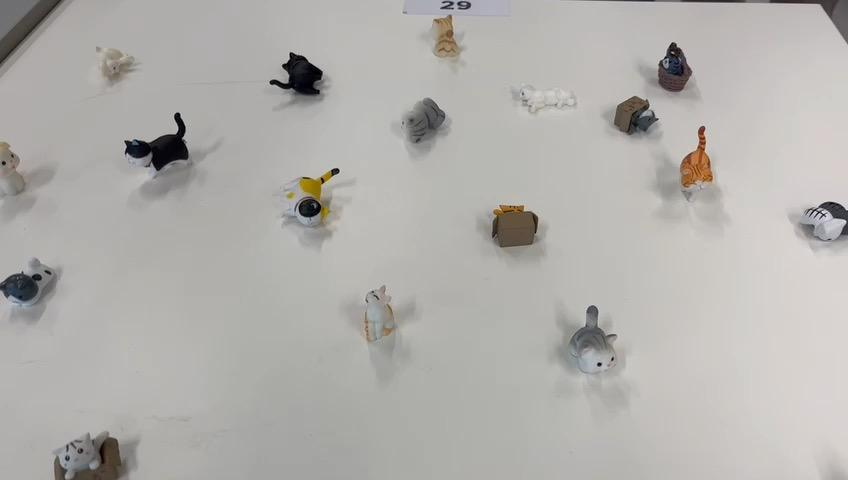pet: (120, 106, 195, 185), (46, 425, 129, 480), (278, 166, 344, 230), (567, 302, 624, 376), (0, 251, 62, 313), (676, 121, 718, 205), (266, 49, 329, 99), (488, 199, 545, 254), (398, 93, 450, 145), (362, 282, 401, 342), (656, 38, 695, 96), (799, 198, 848, 244), (87, 41, 137, 85), (514, 81, 582, 113), (612, 91, 659, 136), (426, 11, 466, 60), (0, 135, 29, 202)
